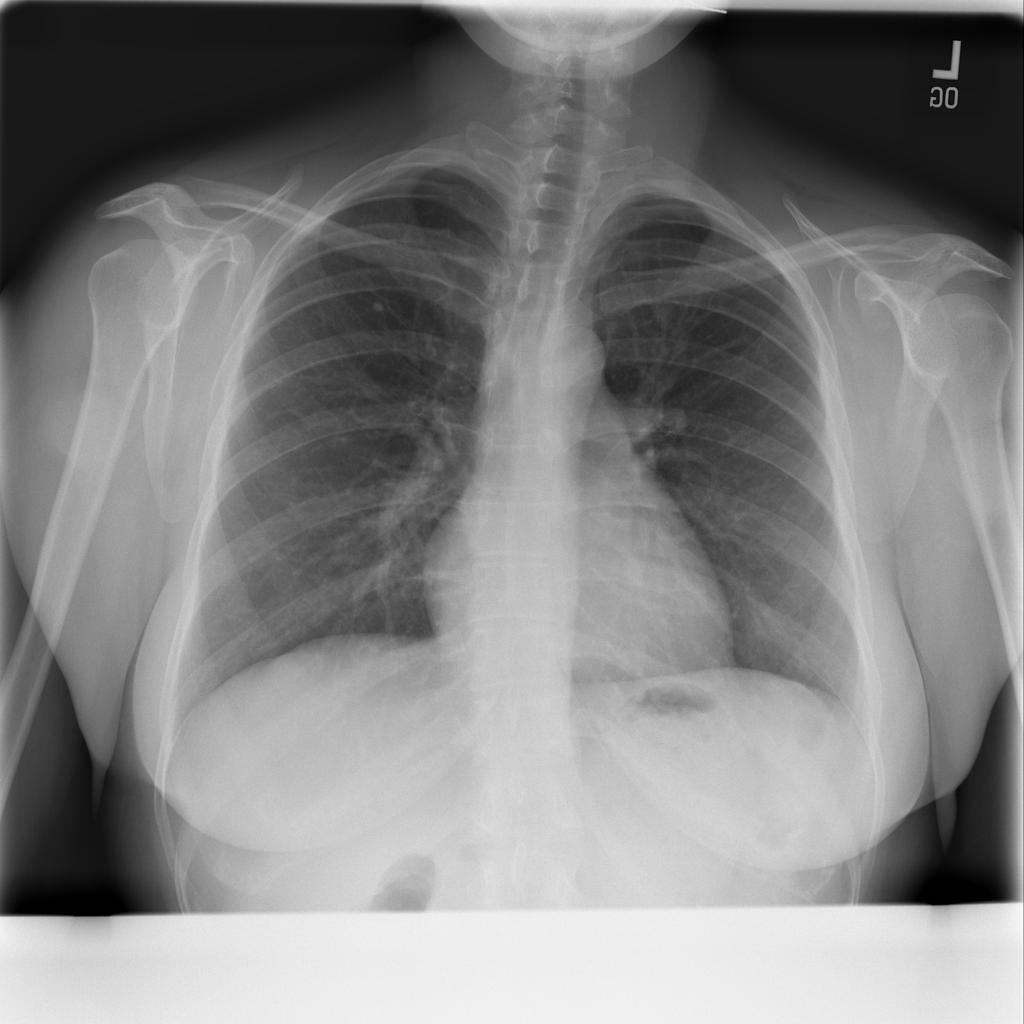nodule: (364, 292, 396, 319)
